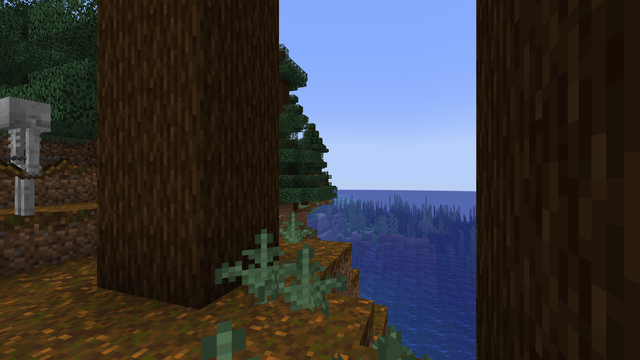squelettes: (3, 95, 56, 217)
